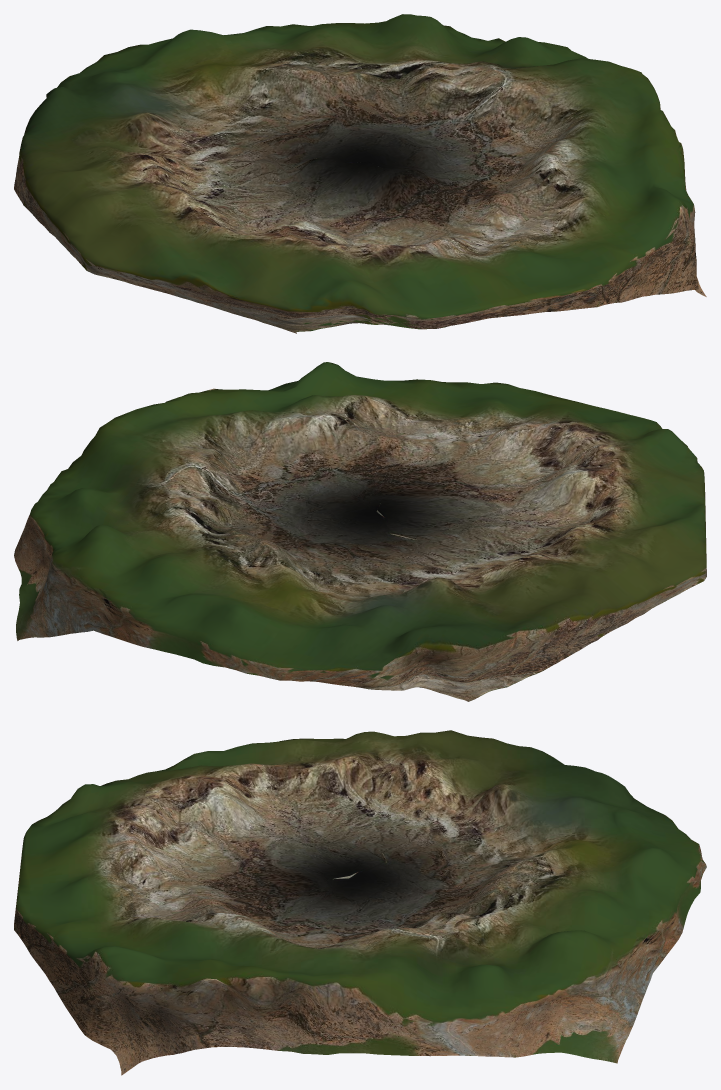
The model's file is harbisonhaliinş.glb.
The picture shows the model from 3 angles, top to bottom: view 1: azimuth 30°, elevation 25°; view 2: azimuth 150°, elevation 25°; view 3: azimuth 270°, elevation 25°; orthographic projection. The views are drawn at different scales.
Visible parts, largest first — view 1: Object_2; view 2: Object_2; view 3: Object_2.
Part boxes in pixels (<box>): Object_2: <box>14,14,706,333</box>; Object_2: <box>14,362,706,701</box>; Object_2: <box>14,730,706,1075</box>.
Size of the model in its own units: 1.22 by 0.2451 by 1.26.
1 material, 1 textured.
